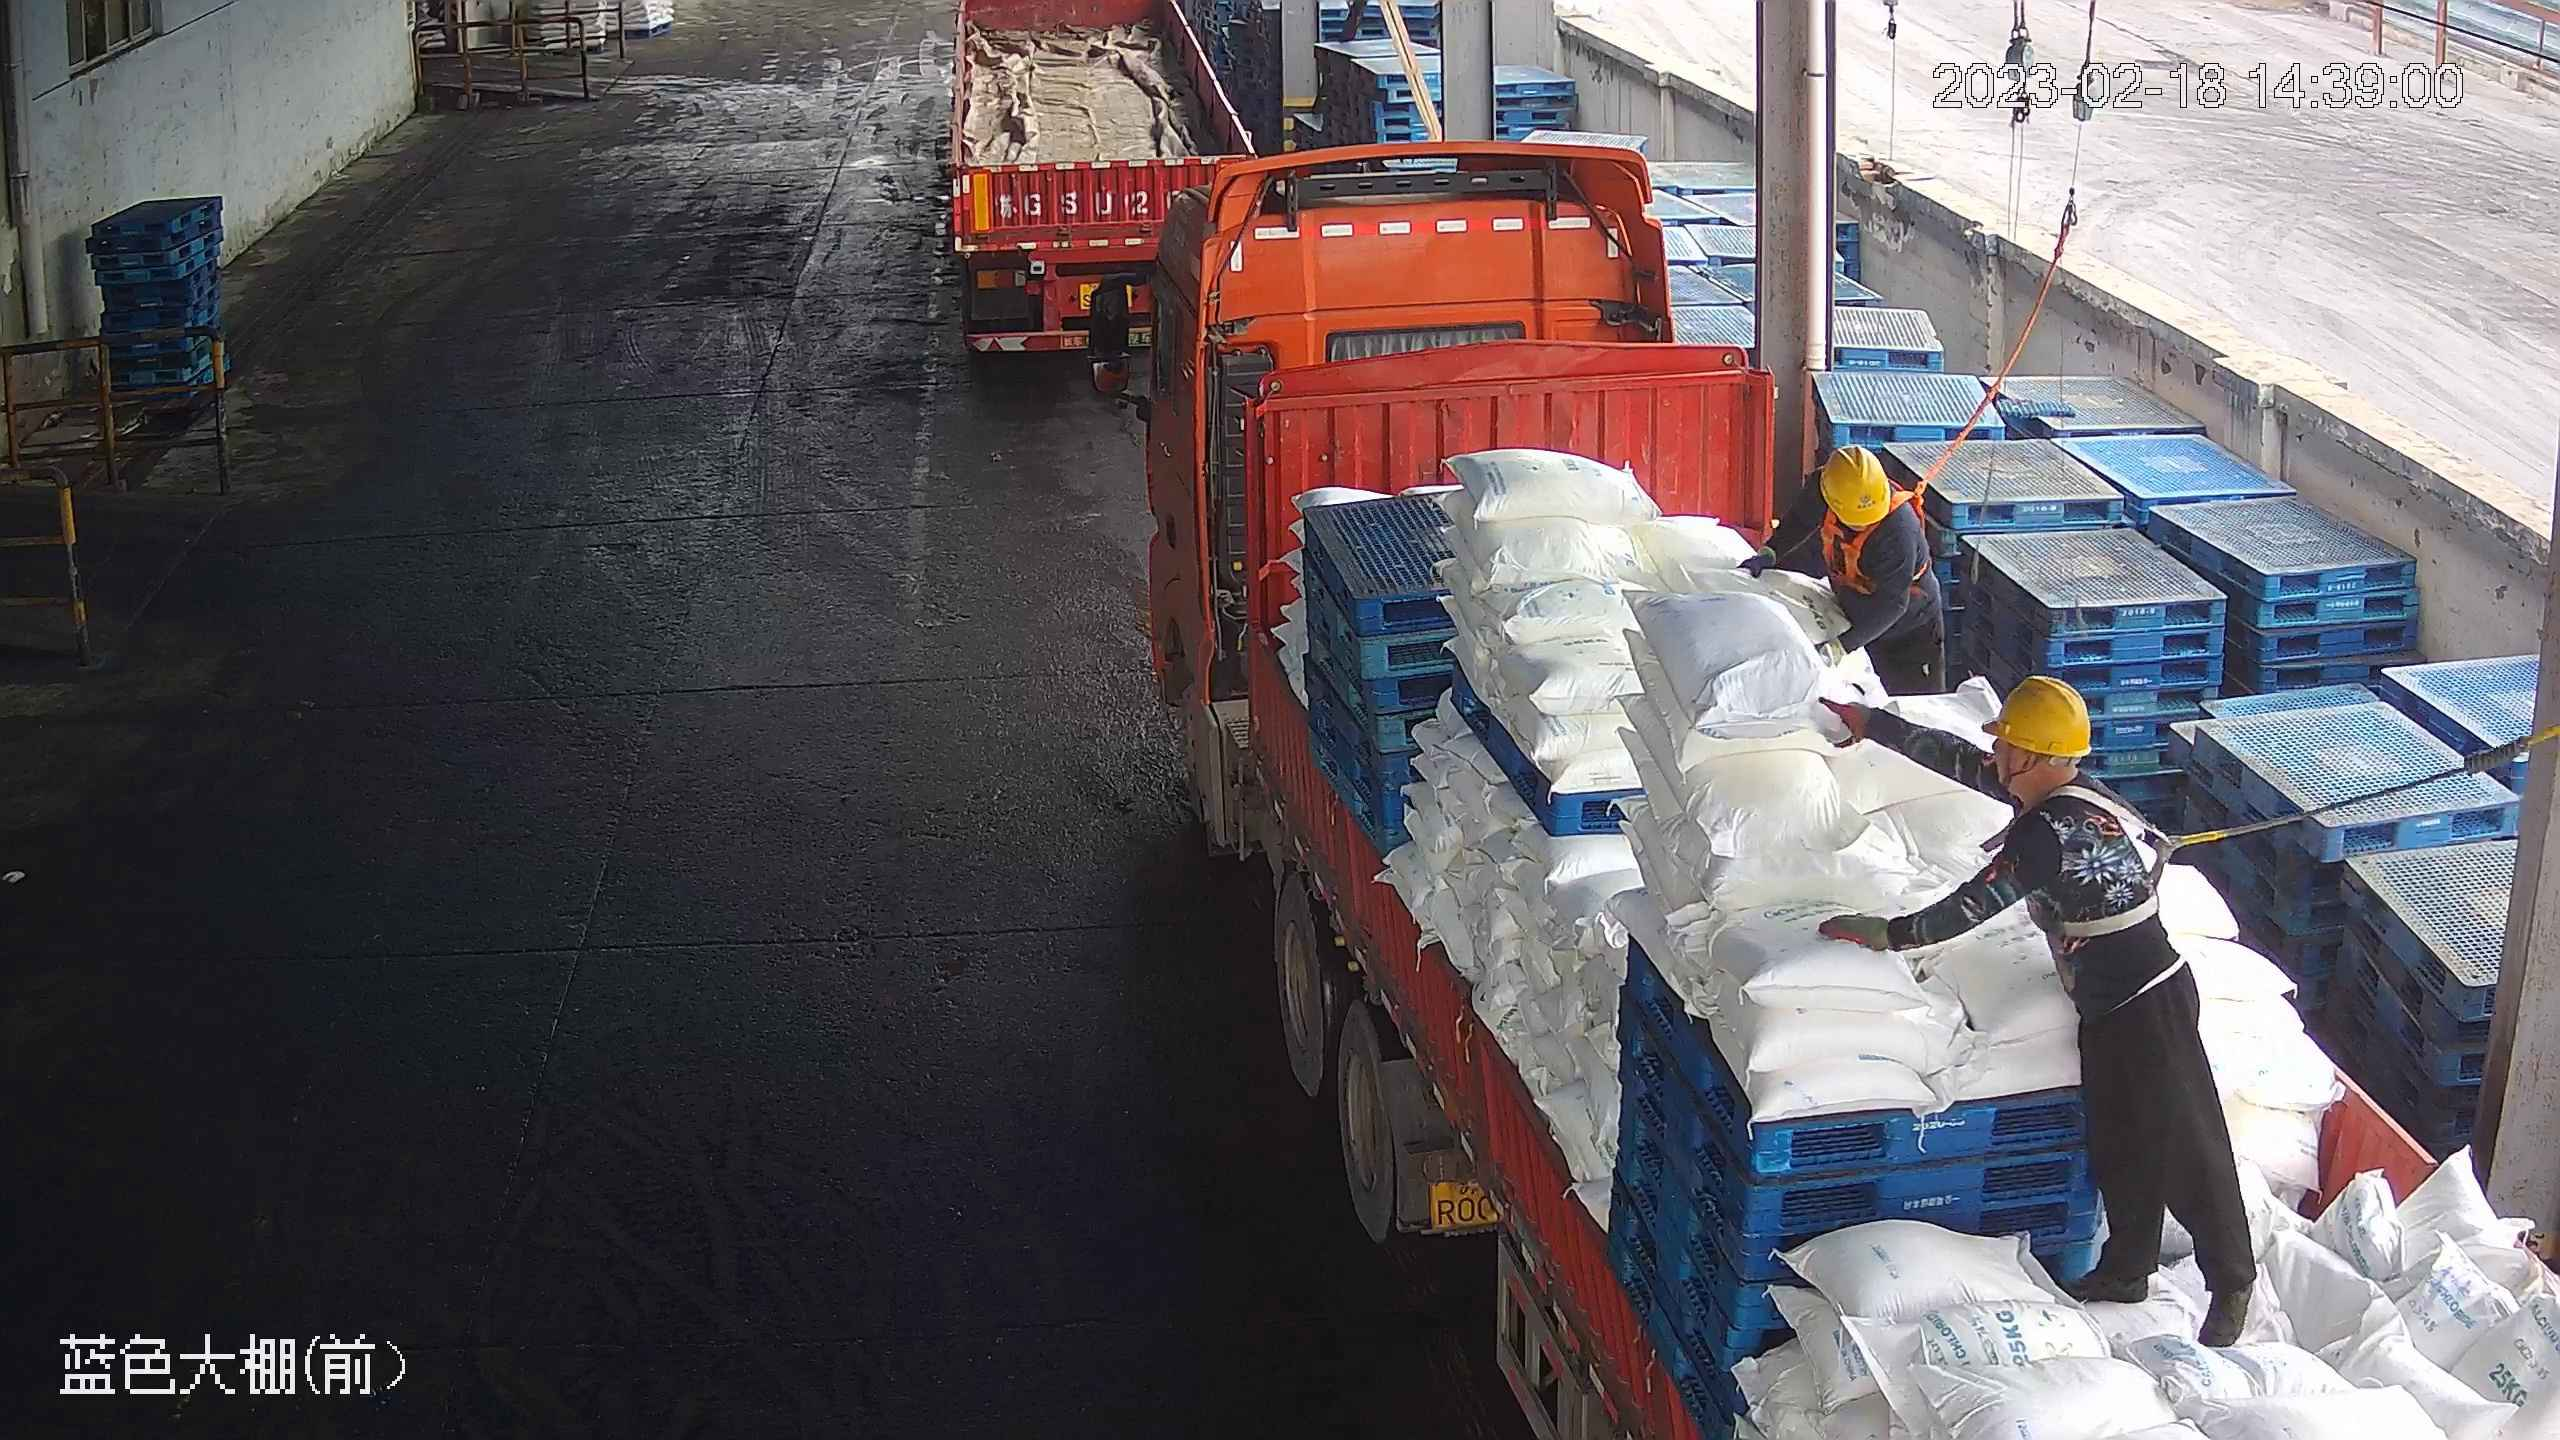belt: (2023, 792, 2205, 942), (1810, 505, 1918, 592)
head: (1971, 671, 2144, 866), (1788, 443, 1931, 556)
helmet: (1977, 671, 2095, 759), (1815, 443, 1891, 526)
people: (1812, 669, 2264, 1345), (1739, 442, 1949, 709)
truck: (1113, 152, 2555, 1439), (932, 8, 1258, 360)
